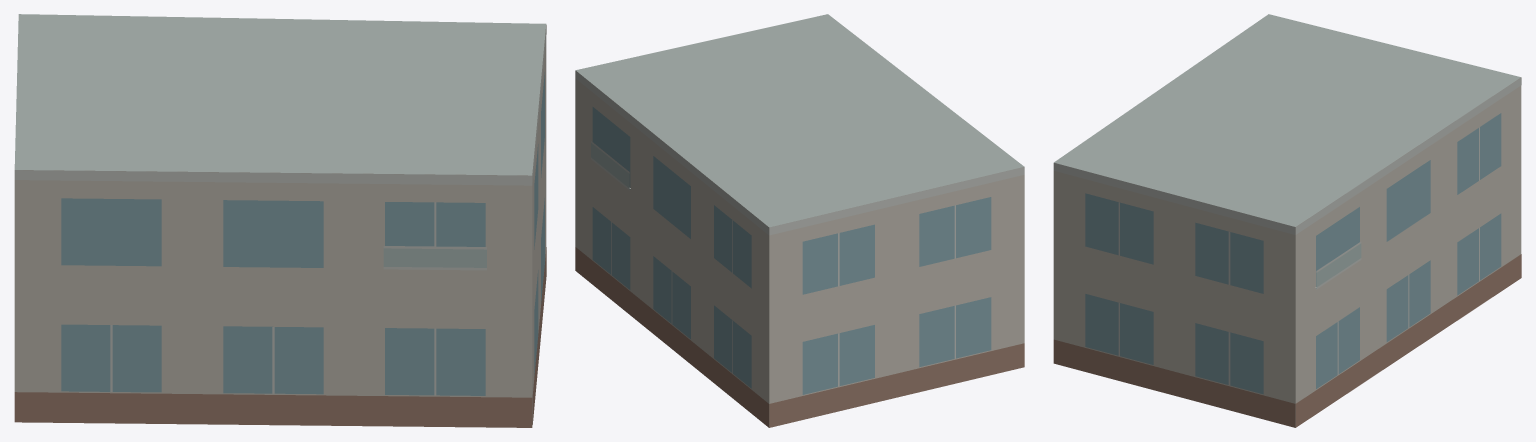
The model's file is survey-upis-32774225.glb.
3 views of the same model, side by side, from view 1: azimuth 30°, elevation 25°; view 2: azimuth 150°, elevation 25°; view 3: azimuth 270°, elevation 25° (orthographic). The views are drawn at different scales.
Visible parts, largest first — view 1: survey-upis-32774225.tmp; view 2: survey-upis-32774225.tmp; view 3: survey-upis-32774225.tmp.
Boxes of the visible parts, <box> form: survey-upis-32774225.tmp: <box>14,14,546,427</box>; survey-upis-32774225.tmp: <box>575,14,1024,427</box>; survey-upis-32774225.tmp: <box>1053,14,1521,427</box>.
Size of the model in its own units: 13.89 by 6.1 by 12.88.
